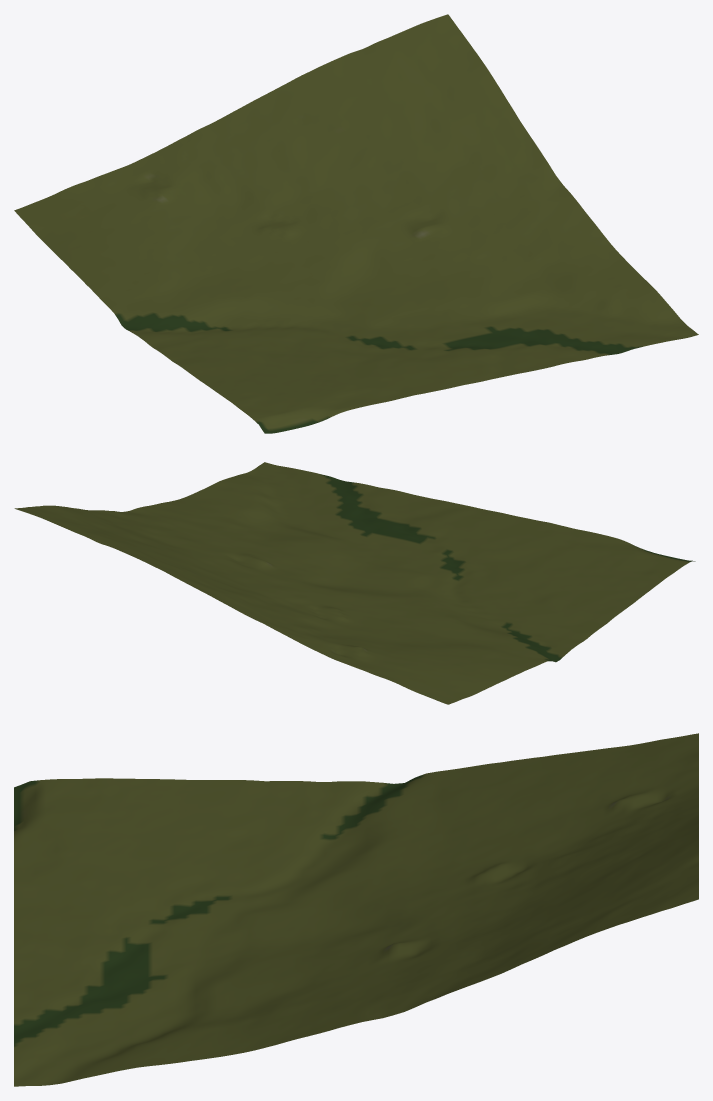
File: terrain_11_-12.glb
The picture shows the model from 3 angles, top to bottom: view 1: azimuth 30°, elevation 25°; view 2: azimuth 150°, elevation 25°; view 3: azimuth 270°, elevation 25°; orthographic projection. The views are drawn at different scales.
Visible parts, largest first — view 1: terrain_11_-12; view 2: terrain_11_-12; view 3: terrain_11_-12.
Boxes of the visible parts, x1,y1,x2,y2 form: terrain_11_-12: [14, 14, 698, 433]; terrain_11_-12: [14, 462, 695, 704]; terrain_11_-12: [14, 733, 698, 1086].
Bounding box in the file's own units: 256 × 77.41 × 256.
